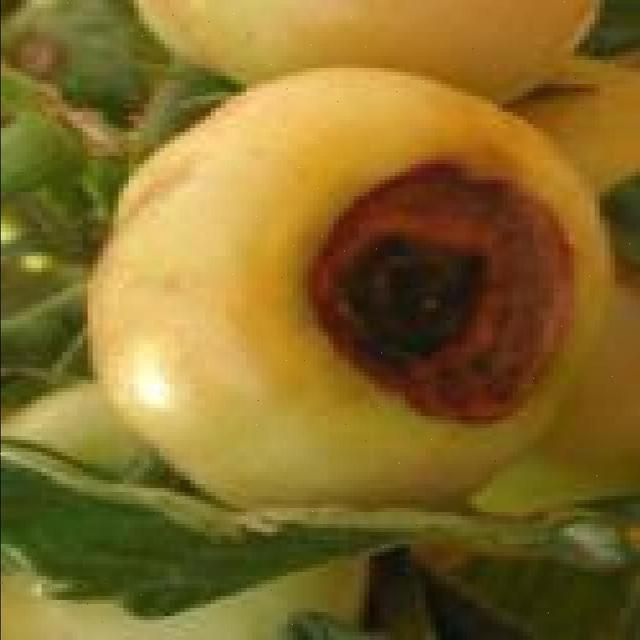Blossom End Rot Fruit: (201, 112, 386, 288)
